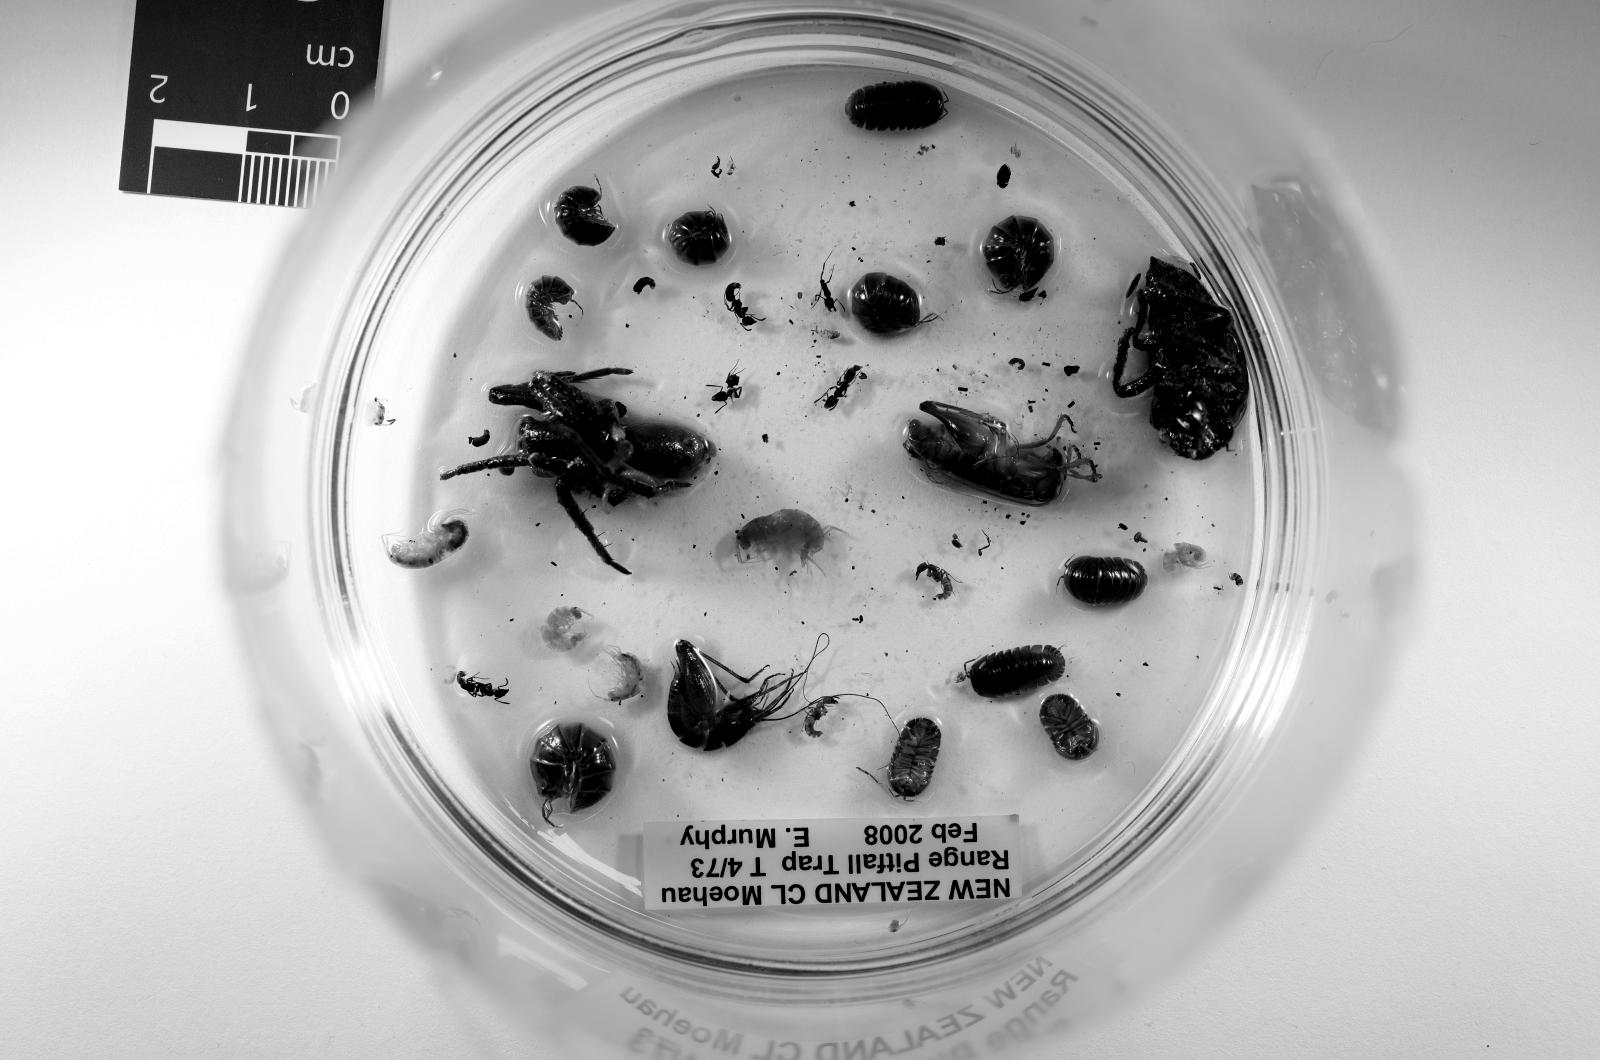amphipoda: (734, 509, 841, 568), (384, 509, 468, 568), (540, 606, 588, 652), (603, 649, 643, 702), (1162, 543, 1206, 571)
araneae: (441, 367, 715, 575)
coleoptera: (1113, 258, 1250, 459), (997, 164, 1010, 189), (1018, 289, 1037, 302)
collembola: (812, 327, 841, 338)
formicidae: (816, 367, 866, 409), (453, 671, 510, 702), (725, 283, 759, 329), (915, 562, 953, 600), (807, 699, 837, 736), (713, 373, 740, 403), (818, 267, 837, 310)
isopoda: (531, 724, 616, 823), (966, 646, 1065, 699), (984, 218, 1054, 292), (843, 80, 947, 130), (850, 273, 922, 336), (887, 717, 940, 799), (1062, 556, 1147, 606), (1041, 696, 1100, 761), (666, 208, 731, 267), (553, 187, 616, 245), (525, 277, 578, 342)
orthoptera: (903, 401, 1100, 506), (666, 640, 807, 751)
